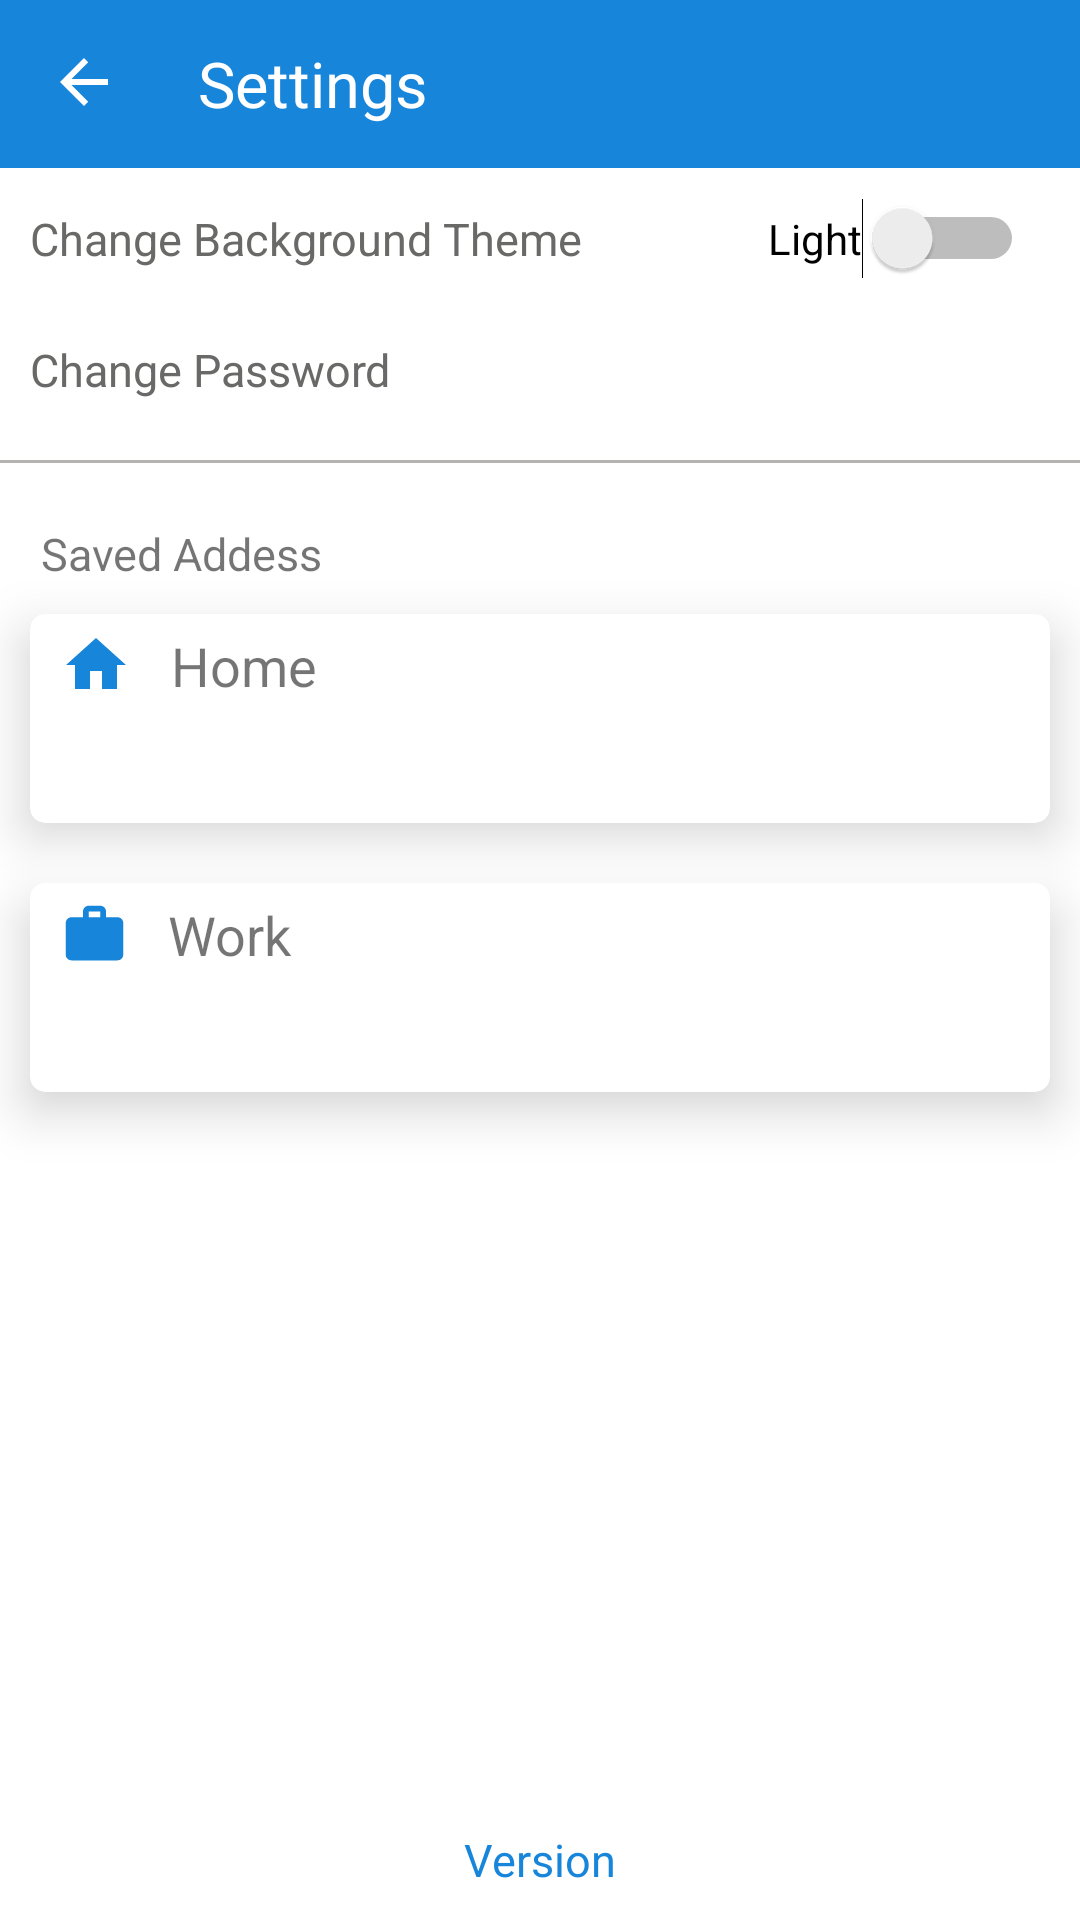

Screen size 1080*1920. Icon name, then its box in pixels as [x1=x1, y1=y1, x2=x2, y2=y2]:
arrow back: [x1=60, y1=58, x2=108, y2=106]
